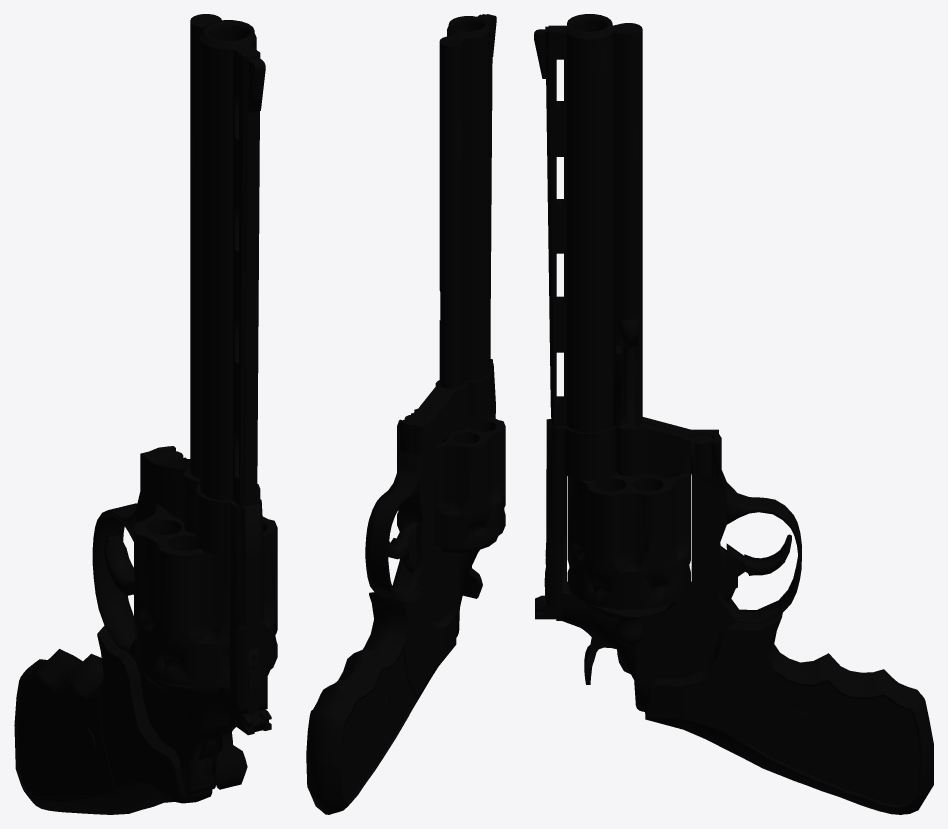
File: ColtAnaconda.fbx
The picture shows the model from 3 angles, left to right: view 1: azimuth 30°, elevation 25°; view 2: azimuth 150°, elevation 25°; view 3: azimuth 270°, elevation 25°; orthographic projection. The views are drawn at different scales.
Visible parts, largest first — view 1: asset_ColtAnaconda.001; view 2: asset_ColtAnaconda.001; view 3: asset_ColtAnaconda.001.
Boxes of the visible parts, <box> form: asset_ColtAnaconda.001: <box>14,14,277,814</box>; asset_ColtAnaconda.001: <box>306,14,505,814</box>; asset_ColtAnaconda.001: <box>534,14,933,814</box>.
Size of the model in its own units: 0.0267 by 0.189 by 0.0866.
